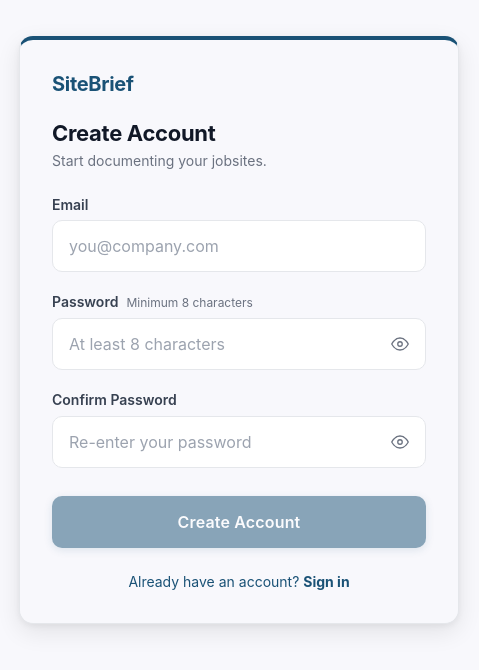
Test: SignUpPage — password confirmation › shows inline mismatch error when passwords differ
Step 1. Type "mypassword1" into the password field with id "signup-password" → [239, 344], box [52, 318, 426, 370]
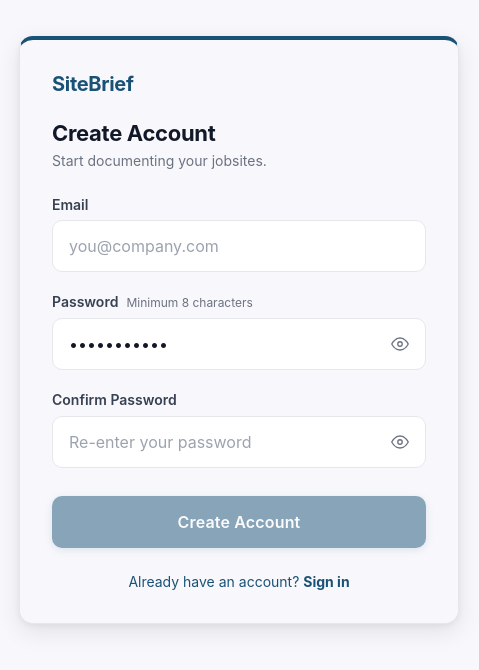
Step 2. Type "different" into the password field with id "signup-confirm-password" → [239, 442], box [52, 416, 426, 468]
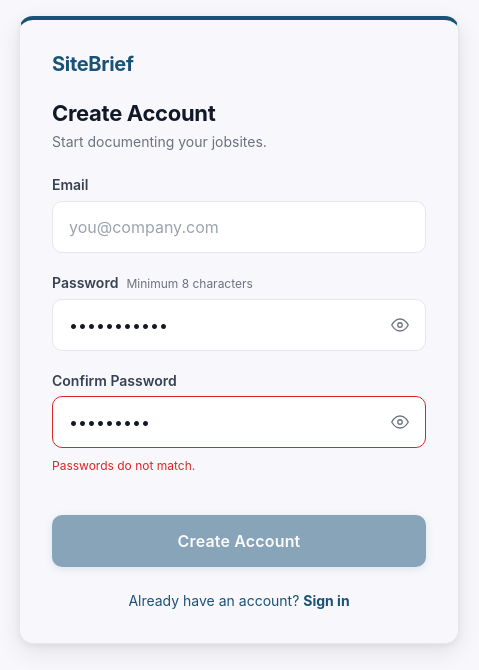
Expected: the text "Passwords do not match." is shown, [52, 458, 195, 473]
